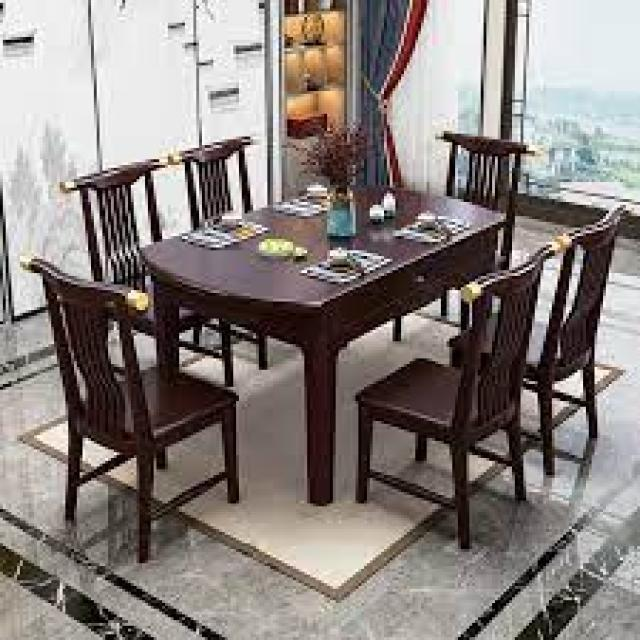table: (22, 122, 626, 556)
